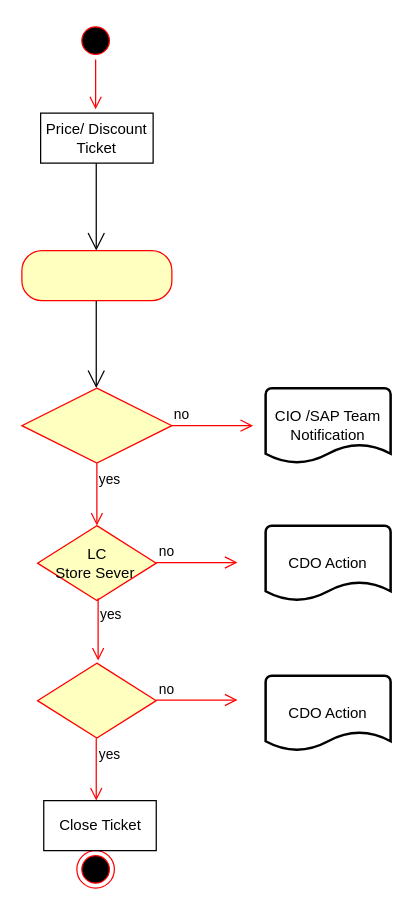
Some shapes in this 414 by 910 pixel diagram are drawn without their labels. The centre of each missing label's shape, as x and y in pixels:
Check Item Price/GTIN/Promo: pixel 96 275
LC HQ Availability: pixel 96 425
POS: pixel 96 700
